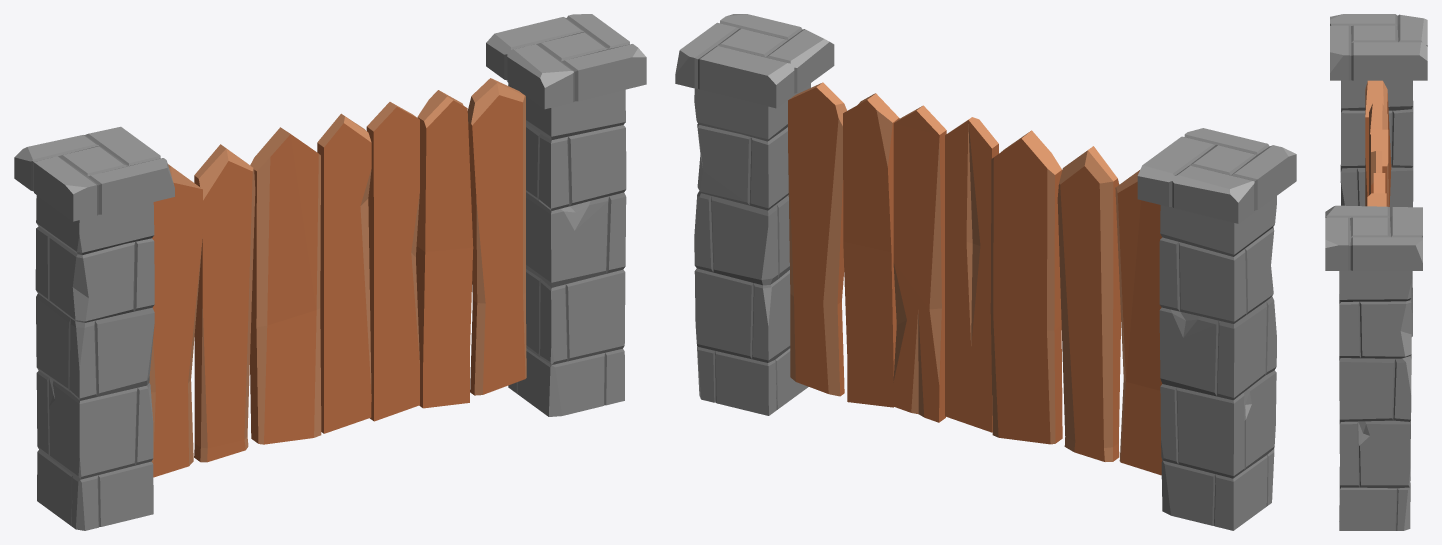
File: Fence_6.fbx
3 renders of one model, left to right at view 1: azimuth 30°, elevation 25°; view 2: azimuth 150°, elevation 25°; view 3: azimuth 270°, elevation 25°, orthographic. The views are drawn at different scales.
Visible parts, largest first — view 1: Fence_6; view 2: Fence_6; view 3: Fence_6.
Boxes of the visible parts, box(x1,y1,x2,y2) form: Fence_6: box(14, 14, 646, 530); Fence_6: box(675, 14, 1296, 530); Fence_6: box(1325, 14, 1427, 530).
Size of the model in its own units: 59.89 by 35.12 by 11.2.
